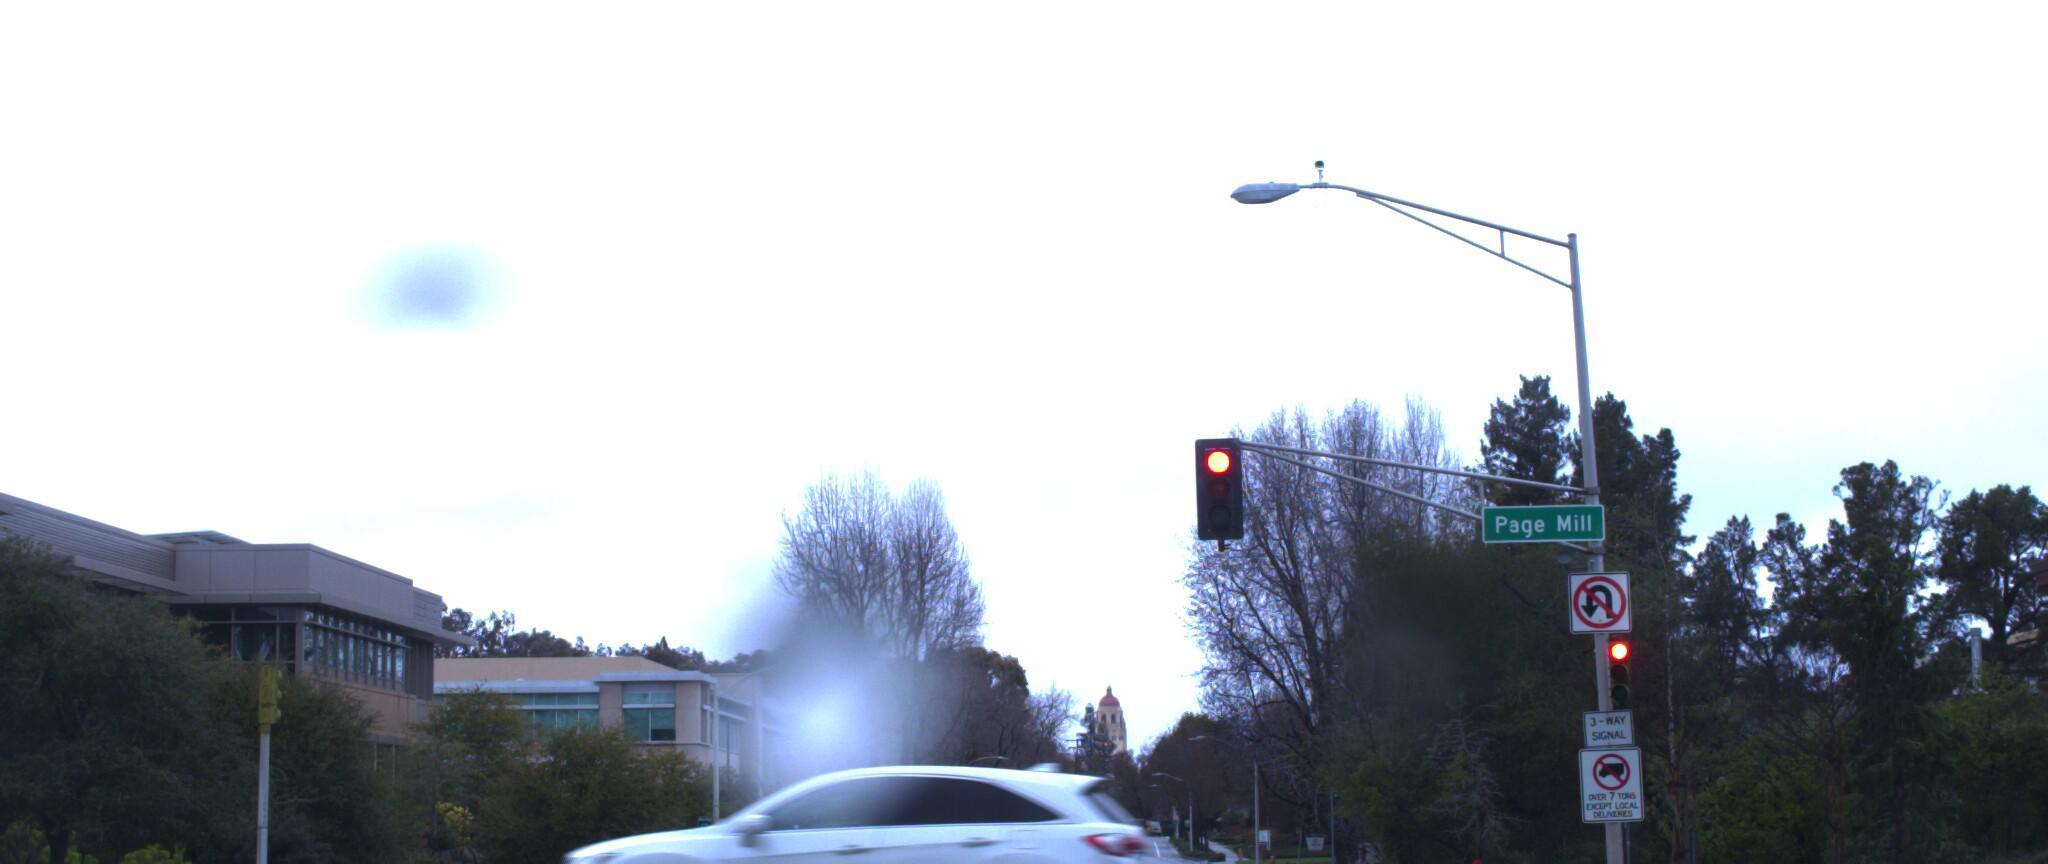car: (526, 741, 1160, 864)
